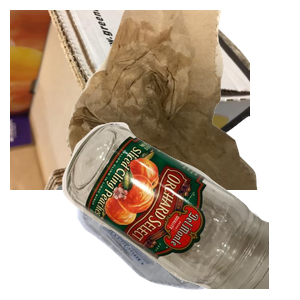cardboard: (10, 10, 250, 190)
glass: (60, 120, 300, 300)
plastic: (75, 147, 289, 300)
trash: (65, 10, 300, 190)
